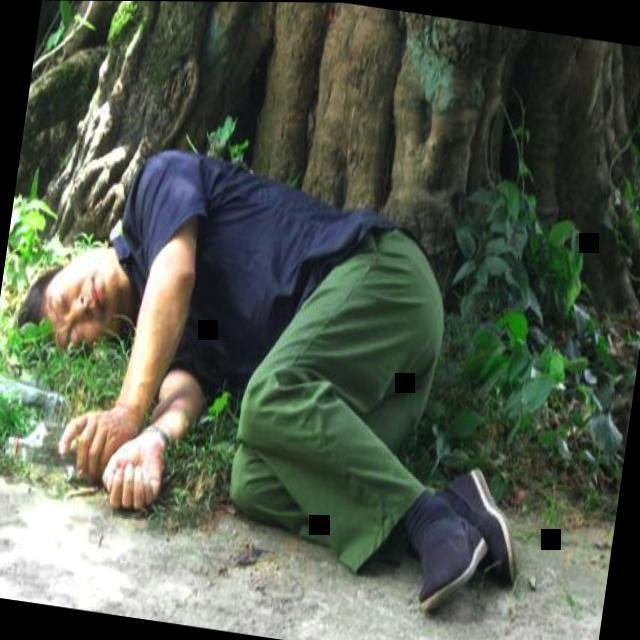Fall-Detected: (0, 88, 585, 624)
